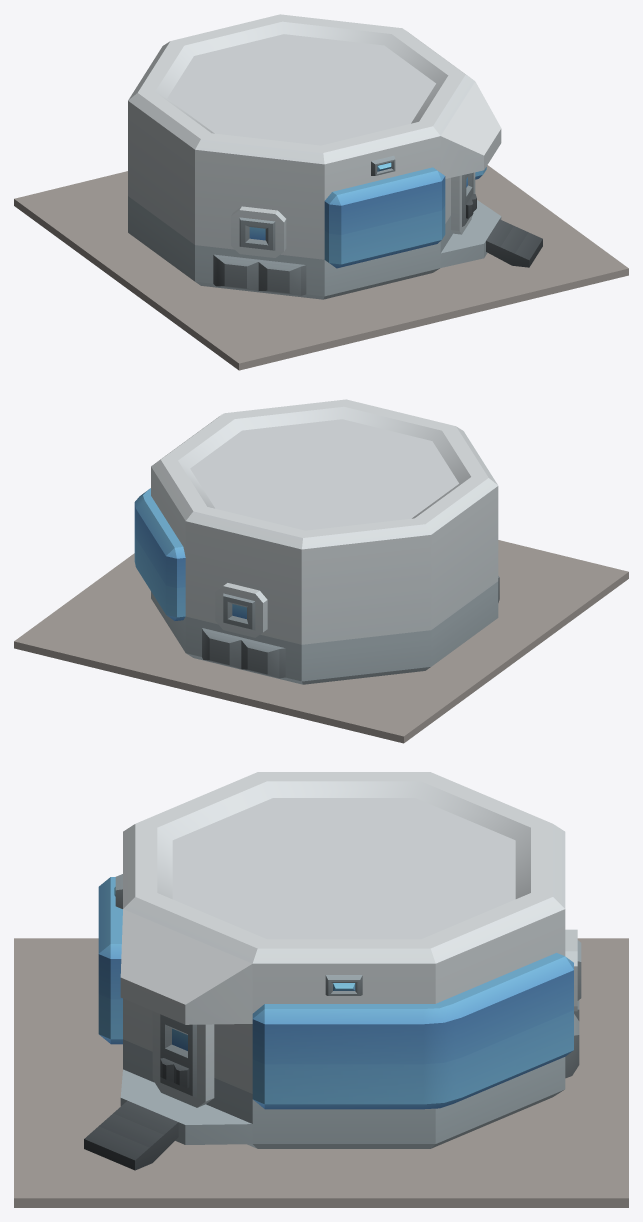
Rendered from space_station_small.glb.
3 views of the same model, one above another, from view 1: azimuth 30°, elevation 25°; view 2: azimuth 150°, elevation 25°; view 3: azimuth 270°, elevation 25° (orthographic). The views are drawn at different scales.
Parts seen in each view (by area): view 1: Spacestation_Small; view 2: Spacestation_Small; view 3: Spacestation_Small.
Boxes of the visible parts, x1=… form: Spacestation_Small: x1=14, y1=14, x2=628, y2=370; Spacestation_Small: x1=14, y1=399, x2=628, y2=743; Spacestation_Small: x1=14, y1=772, x2=628, y2=1207.
Size of the model in its own units: 0.58 by 0.2185 by 0.58.
Materials: 1 (1 with a texture image).
